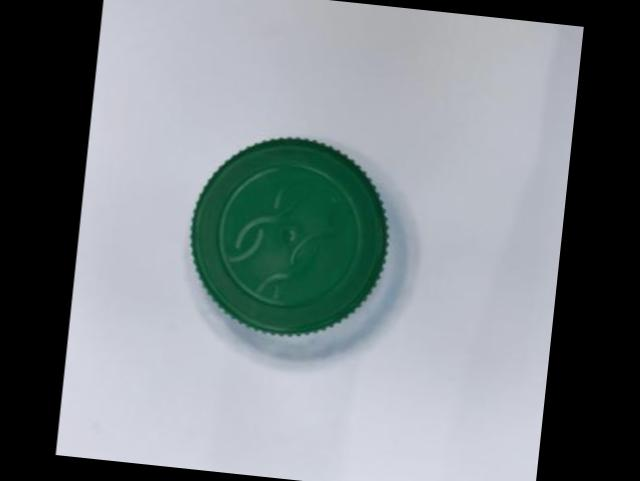plastic: (189, 140, 385, 336)
